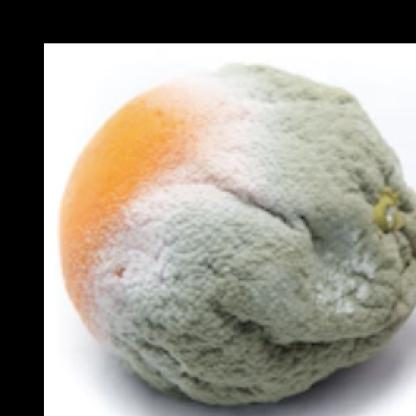rotten: (59, 66, 416, 416)
